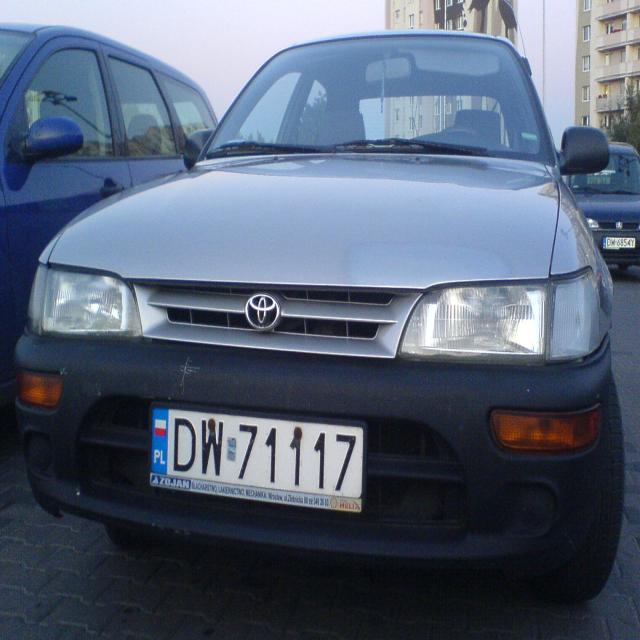pl_license_plate: (149, 402, 364, 515)
